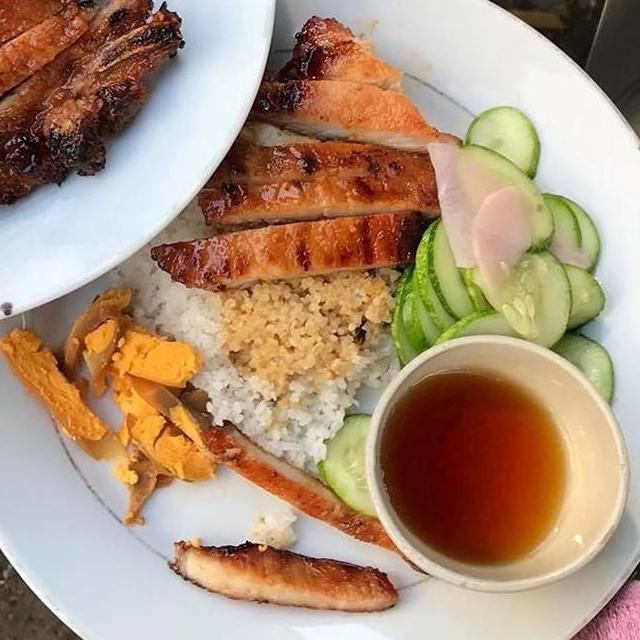com: (115, 263, 404, 477)
com suon trung: (0, 28, 640, 632)
dua chua: (423, 137, 594, 296)
suon: (144, 11, 464, 294), (0, 0, 187, 209), (201, 416, 427, 578), (167, 534, 402, 616)
trung: (0, 282, 225, 527)
